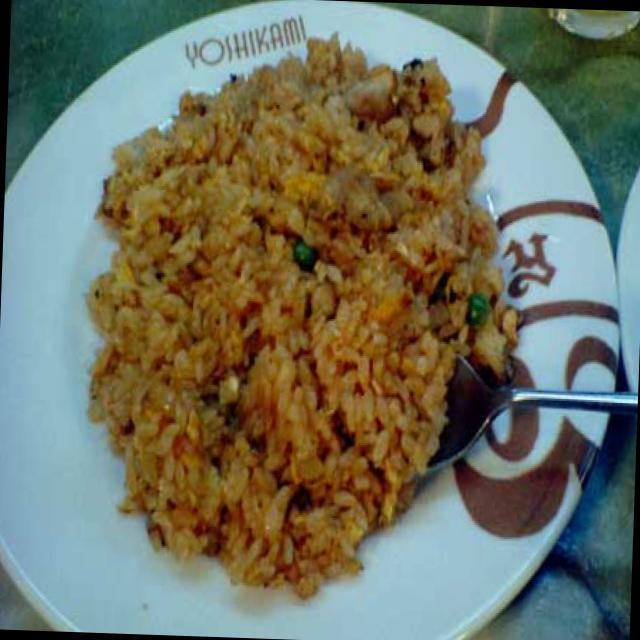Rice: (84, 36, 528, 582)
